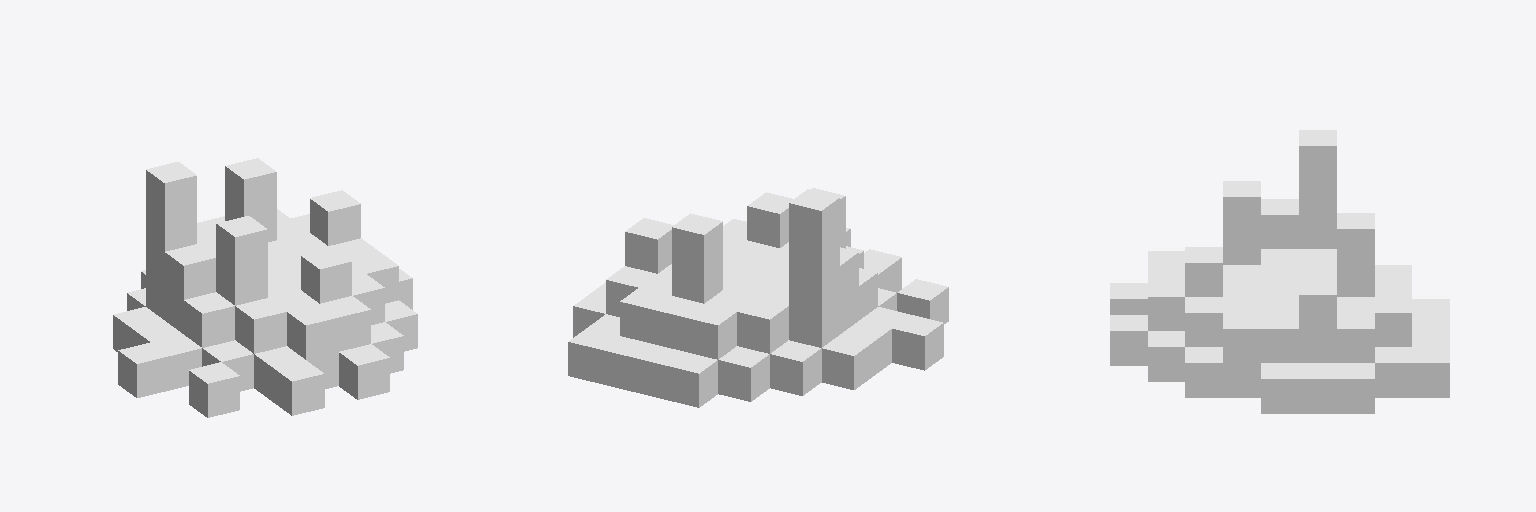
Rendered from scummBarFireFrame1.obj.
The picture shows the model from 3 angles: view 1: azimuth 30°, elevation 25°; view 2: azimuth 150°, elevation 25°; view 3: azimuth 270°, elevation 25°; orthographic projection.
Bounding box in the file's own units: 9 × 5 × 9.